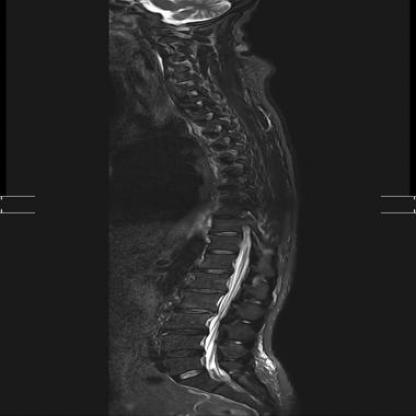Annular Tearrotation: (164, 347, 201, 365)
Disc Bulgerotation: (164, 348, 202, 363), (164, 323, 204, 337), (170, 305, 214, 317)
Disc Protrusionrotation: (182, 282, 226, 297), (164, 57, 189, 70)
